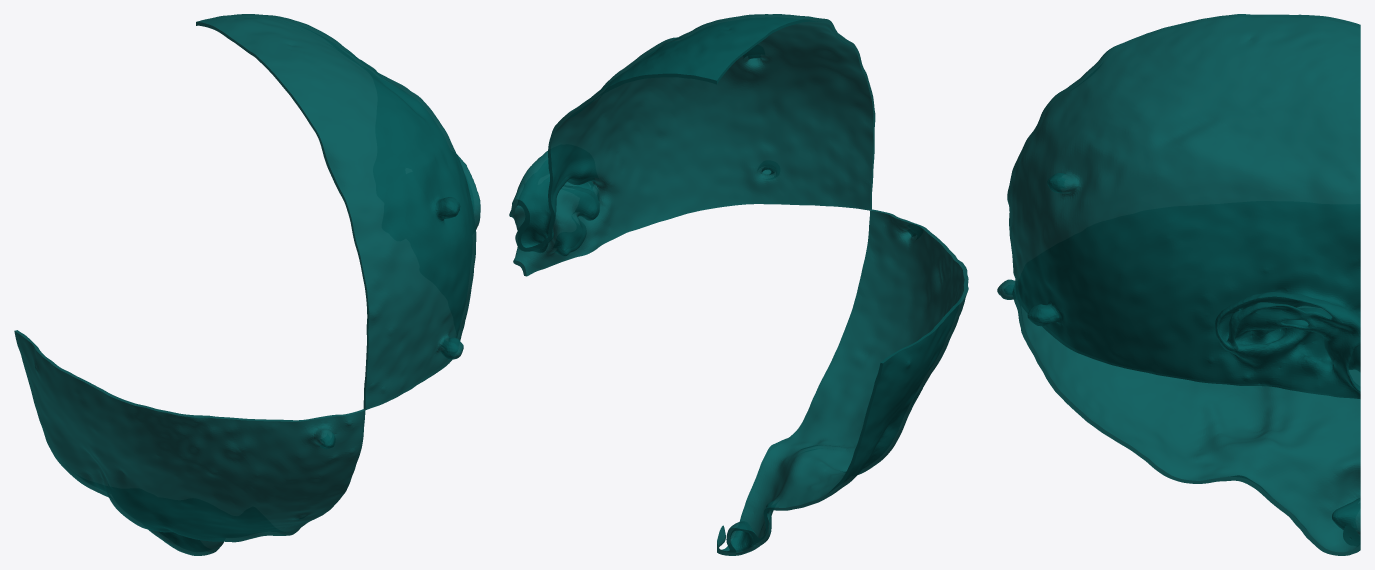
The model's file is Scalp_quadrants.obj.
3 views of the same model, side by side, from view 1: azimuth 30°, elevation 25°; view 2: azimuth 150°, elevation 25°; view 3: azimuth 270°, elevation 25° (orthographic). The views are drawn at different scales.
Visible parts, largest first — view 1: grp1; view 2: grp1; view 3: grp1.
Part boxes in pixels (bbox=[...]): grp1: bbox=[14, 14, 480, 555]; grp1: bbox=[509, 14, 968, 555]; grp1: bbox=[997, 14, 1360, 555].
Size of the model in its own units: 183 by 224 by 136.
